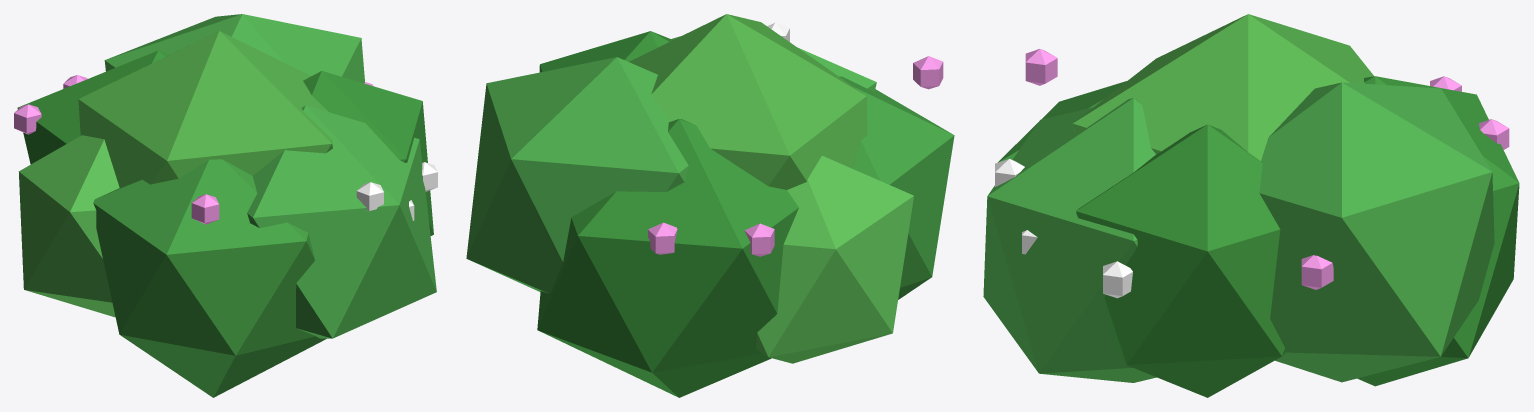
Rendered from busch.glb.
The picture shows the model from 3 angles, left to right: view 1: azimuth 30°, elevation 25°; view 2: azimuth 150°, elevation 25°; view 3: azimuth 270°, elevation 25°; orthographic projection. The views are drawn at different scales.
Parts seen in each view (by area): view 1: laub; view 2: laub; view 3: laub.
Part boxes in pixels (left/top/right/bottom): laub: left=14, top=14, right=437, bottom=397; laub: left=466, top=14, right=954, bottom=397; laub: left=983, top=14, right=1519, bottom=397.
Bounding box in the file's own units: 2.23 × 1.91 × 2.35.
